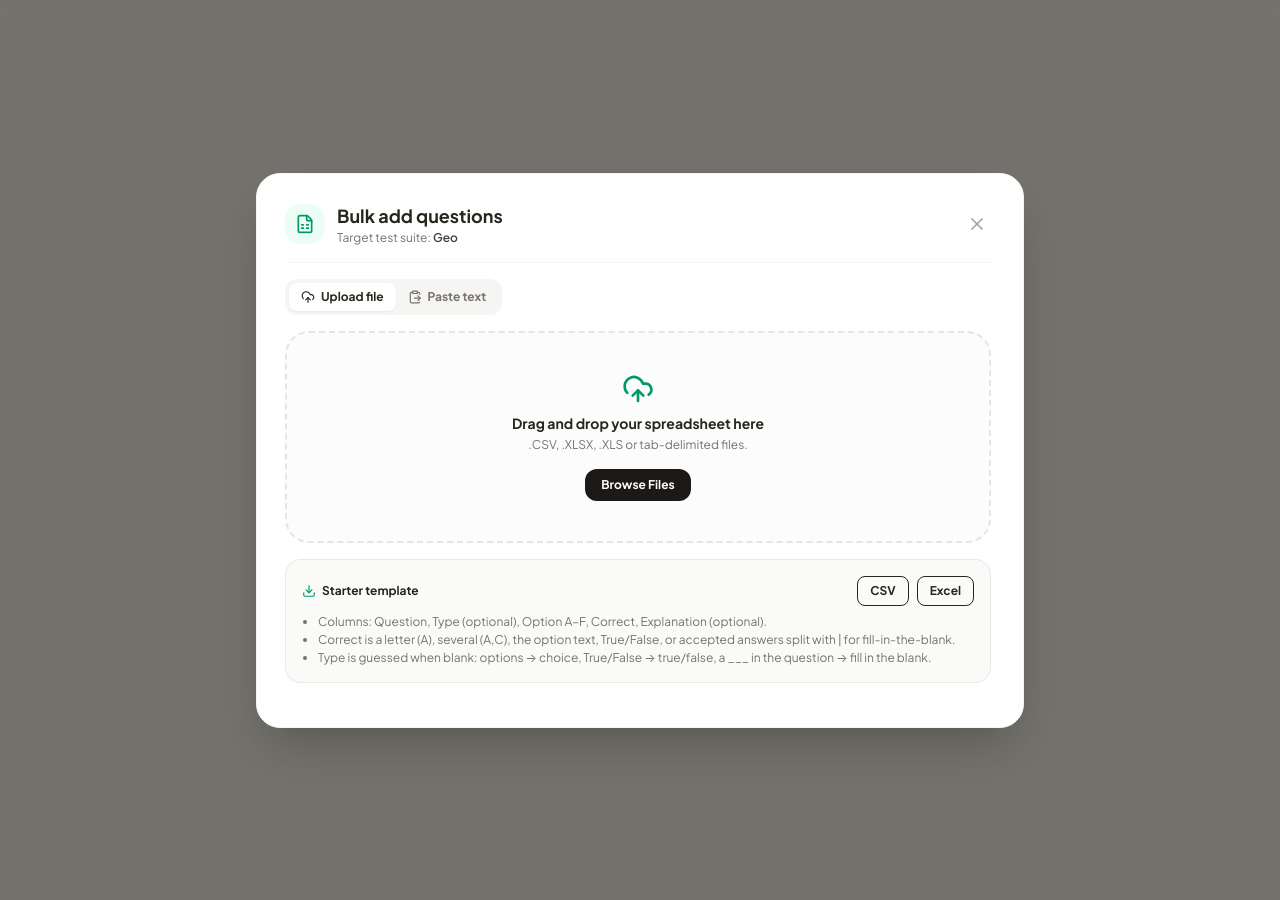
Scenario: ImportQuestionsModal › asks for something to paste before previewing
Click the tab with test id "tab-import-paste".
click(447, 296)  # box [396,282,498,310]
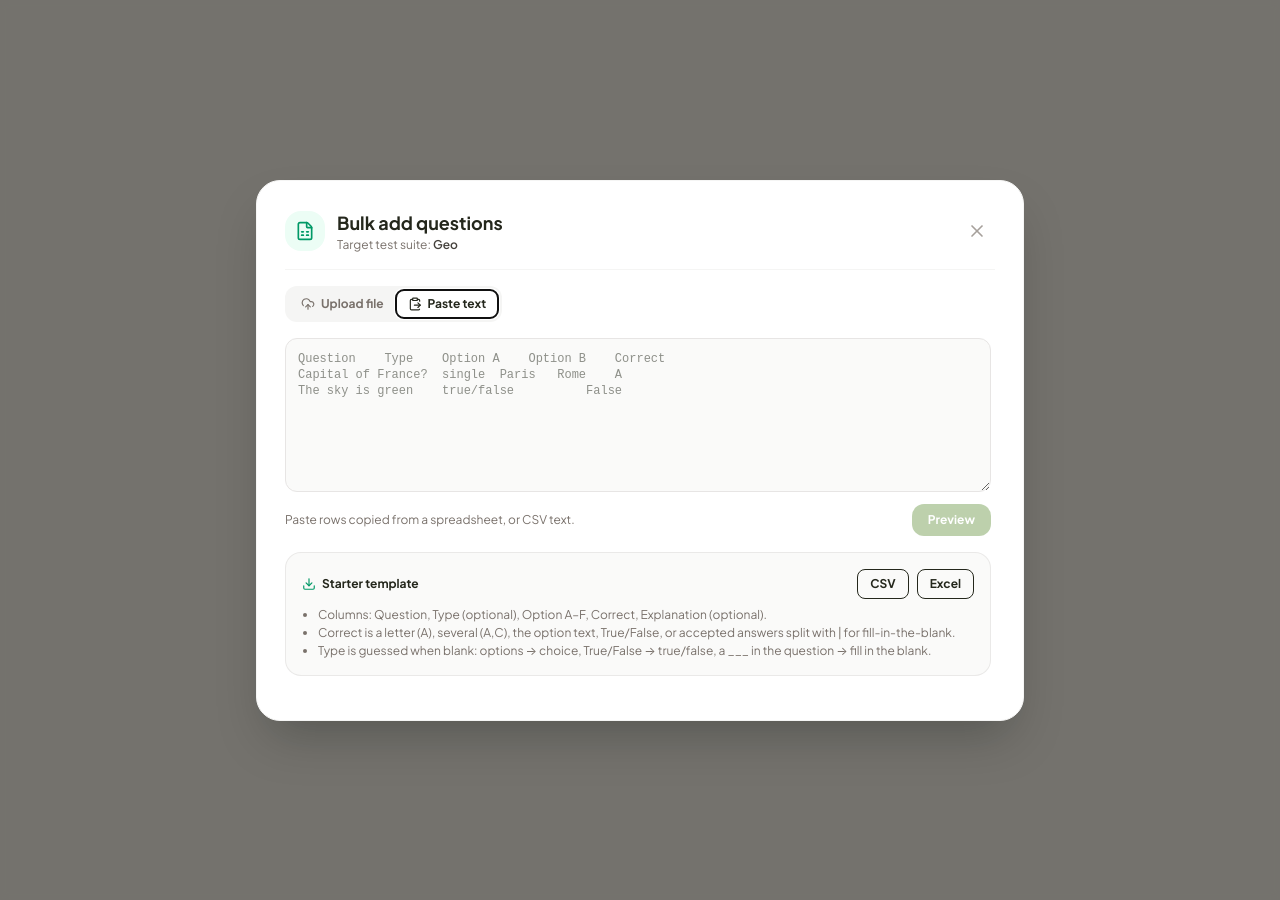
Now the button with test id "btn-parse-pasted" is disabled, box [912,504,991,536]
